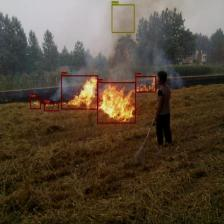fire: (97, 82, 136, 123), (61, 75, 98, 110), (135, 76, 156, 92), (30, 97, 41, 109), (44, 103, 59, 111)
smoke: (112, 4, 134, 33)
